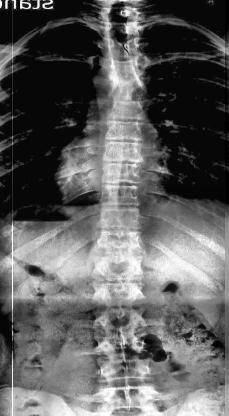Vertebrae: (98, 356, 158, 387), (92, 279, 150, 307), (88, 230, 144, 256), (97, 36, 151, 62), (99, 56, 152, 82), (96, 161, 152, 185), (92, 257, 144, 282), (94, 330, 148, 353), (100, 78, 150, 102), (97, 142, 149, 165), (94, 309, 150, 330), (93, 207, 143, 229), (100, 100, 150, 122), (95, 184, 149, 204), (101, 118, 150, 140), (96, 17, 146, 35)
